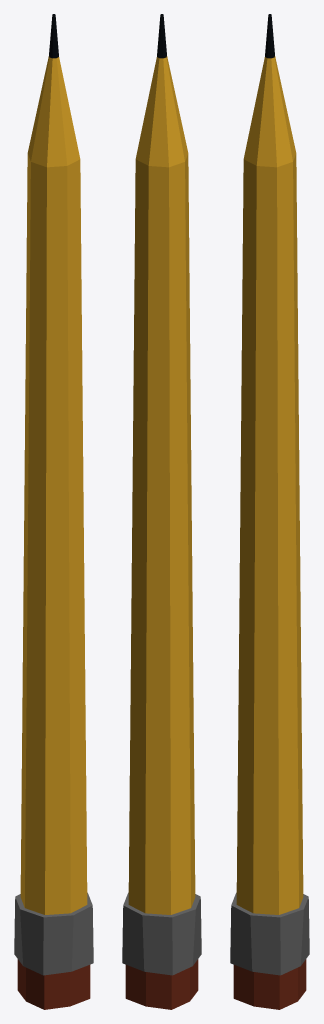
File: Pencil1.glb
The picture shows the model from 3 angles, left to right: view 1: azimuth 30°, elevation 25°; view 2: azimuth 150°, elevation 25°; view 3: azimuth 330°, elevation 25°; orthographic projection.
Visible parts, largest first — view 1: Pencil1; view 2: Pencil1; view 3: Pencil1.
Boxes of the visible parts, x1=… form: Pencil1: x1=14, y1=14, x2=93, y2=1009; Pencil1: x1=122, y1=14, x2=201, y2=1009; Pencil1: x1=230, y1=14, x2=309, y2=1009.
Bounding box in the file's own units: 0.0193 × 0.2667 × 0.0193.
